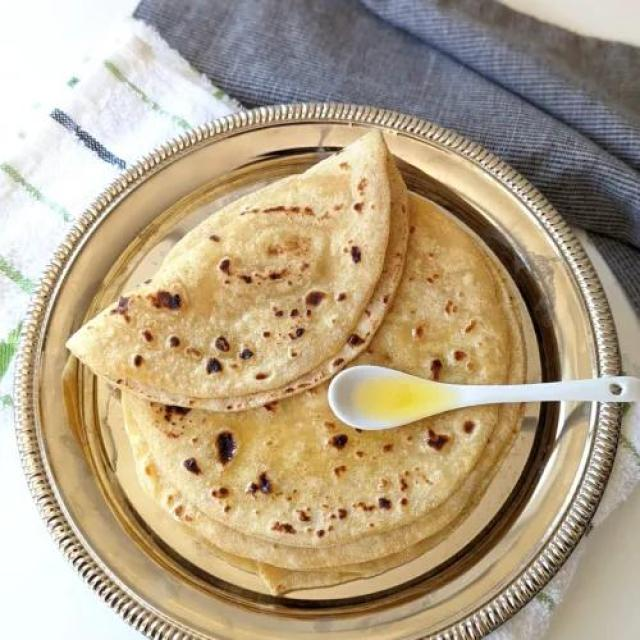roti: (53, 117, 416, 411), (121, 377, 525, 598), (352, 189, 527, 384)
